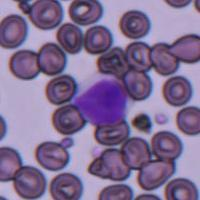L: (71, 73, 129, 126)
